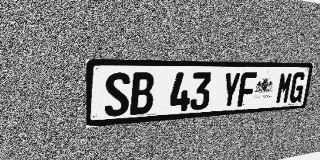3: (190, 72, 212, 111)
4: (169, 72, 192, 112)
B: (130, 72, 155, 115)
F: (237, 72, 257, 107)
G: (288, 72, 306, 103)
M: (275, 72, 294, 104)
S: (105, 72, 130, 117)
Y: (220, 72, 241, 108)
